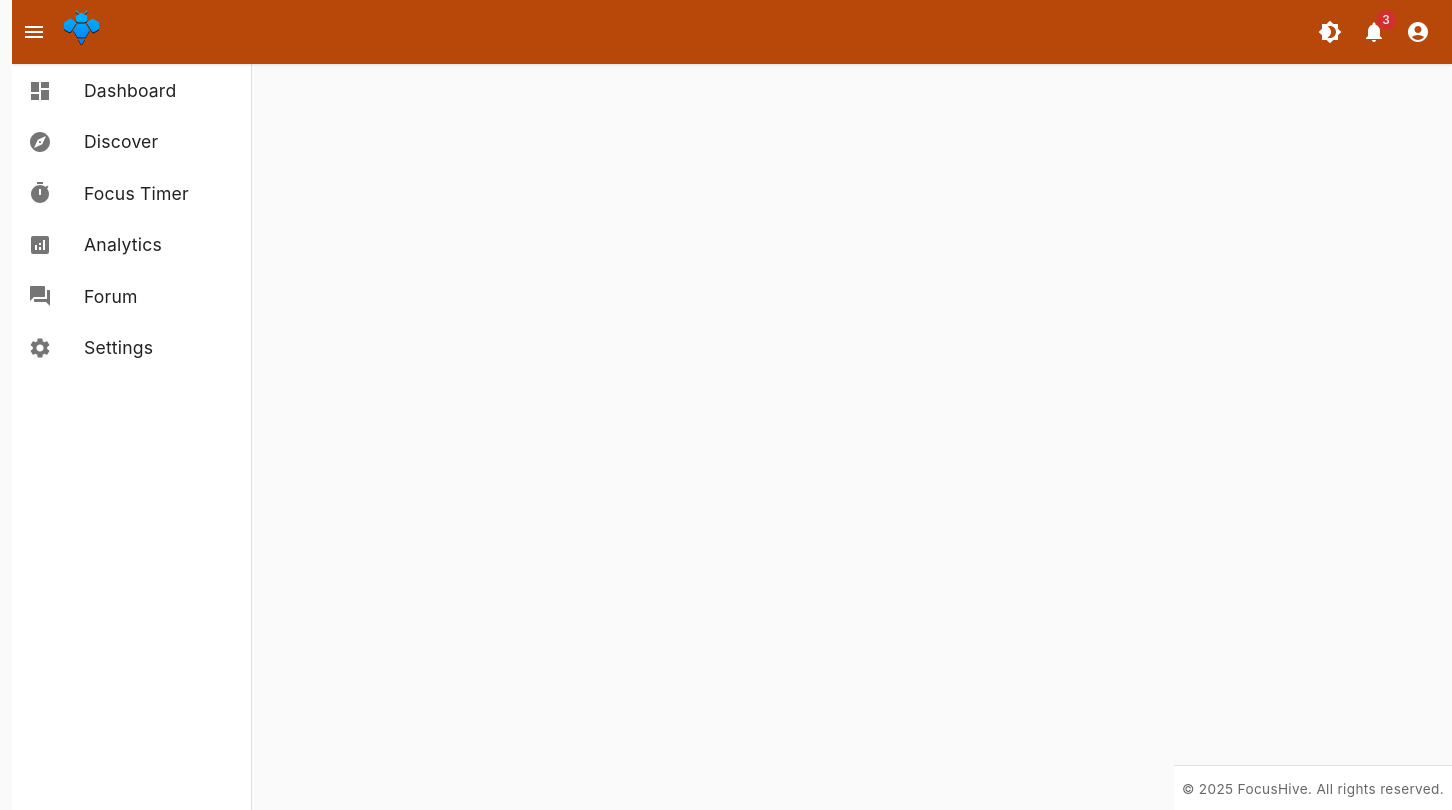
Test: AppLayout › Notifications › should open notifications panel when bell icon is clicked
The image size is (1452, 810).
Click the button with test id "notification-button": (1374,32) [1352,10,1396,54]
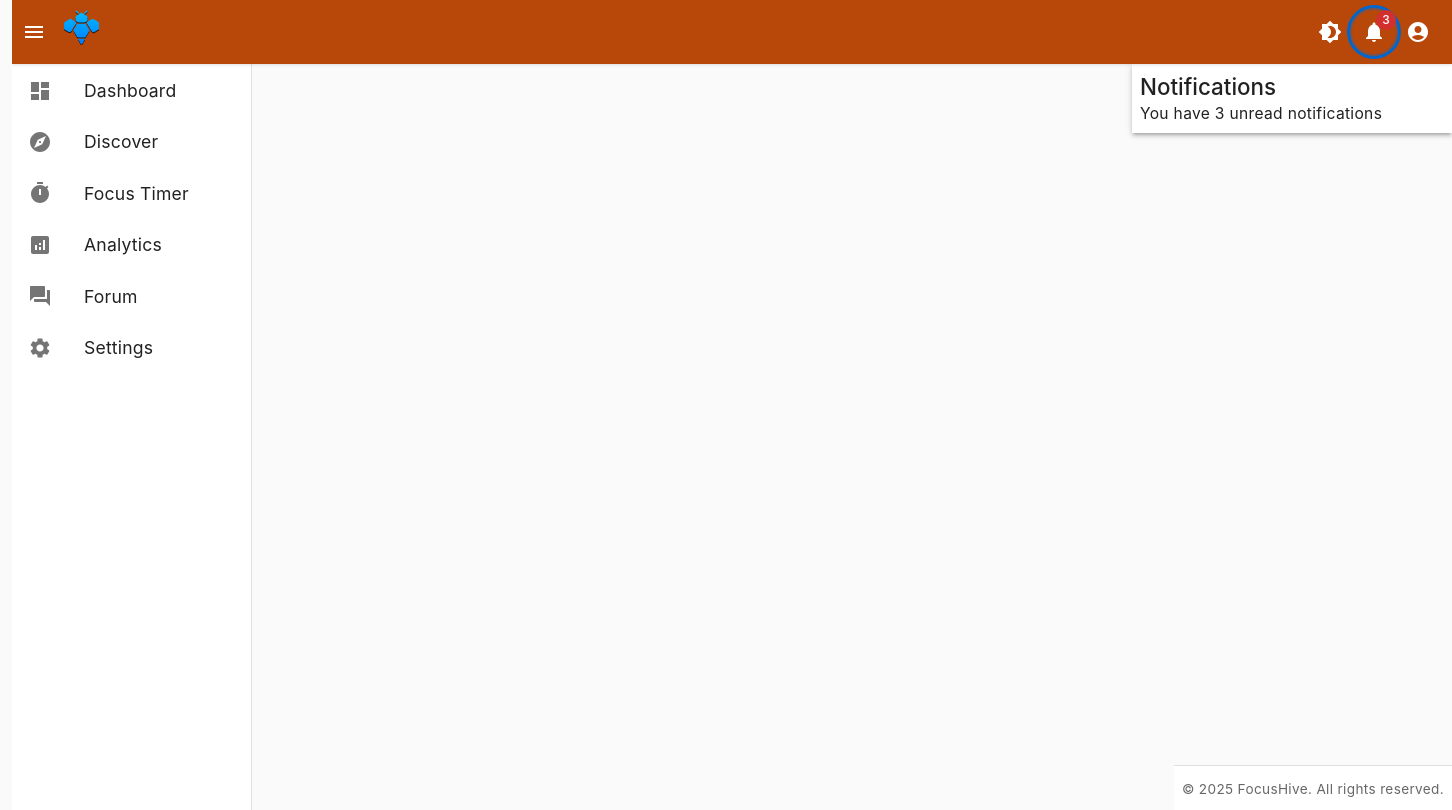
Now the element with test id "notifications-panel" is shown, box [1132,64,1451,133]
